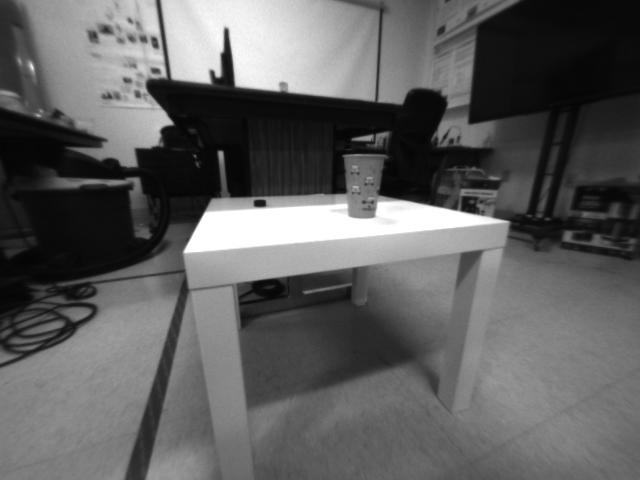coffee_cup: (340, 150, 385, 219)
